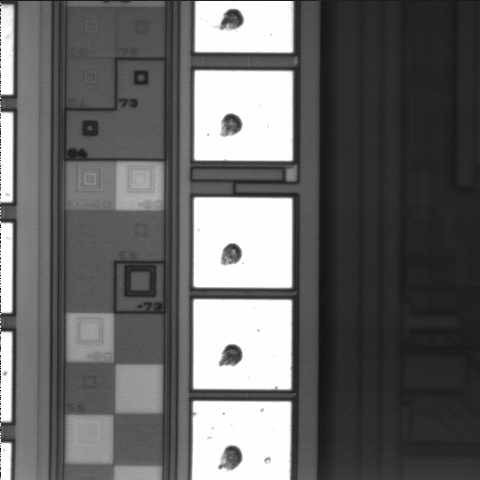pad: (194, 197, 292, 288), (194, 71, 293, 161), (193, 299, 292, 389)
